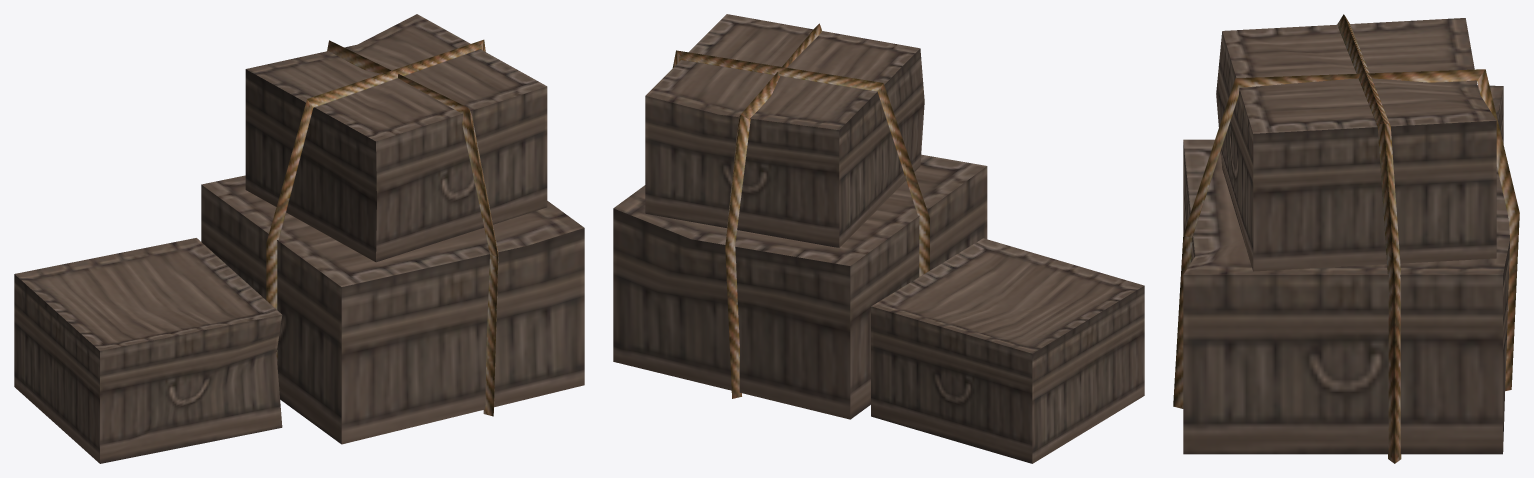
Rendered from handan_field_a_r05a.fbx.
The picture shows the model from 3 angles, left to right: view 1: azimuth 30°, elevation 25°; view 2: azimuth 150°, elevation 25°; view 3: azimuth 270°, elevation 25°; orthographic projection. The views are drawn at different scales.
Parts seen in each view (by area): view 1: handan_field_a_r05a; view 2: handan_field_a_r05a; view 3: handan_field_a_r05a.
Boxes of the visible parts, x1=… form: handan_field_a_r05a: x1=14, y1=14, x2=584, y2=463; handan_field_a_r05a: x1=613, y1=14, x2=1144, y2=463; handan_field_a_r05a: x1=1173, y1=14, x2=1519, y2=463.
Bounding box in the file's own units: 185 × 113 × 108.
